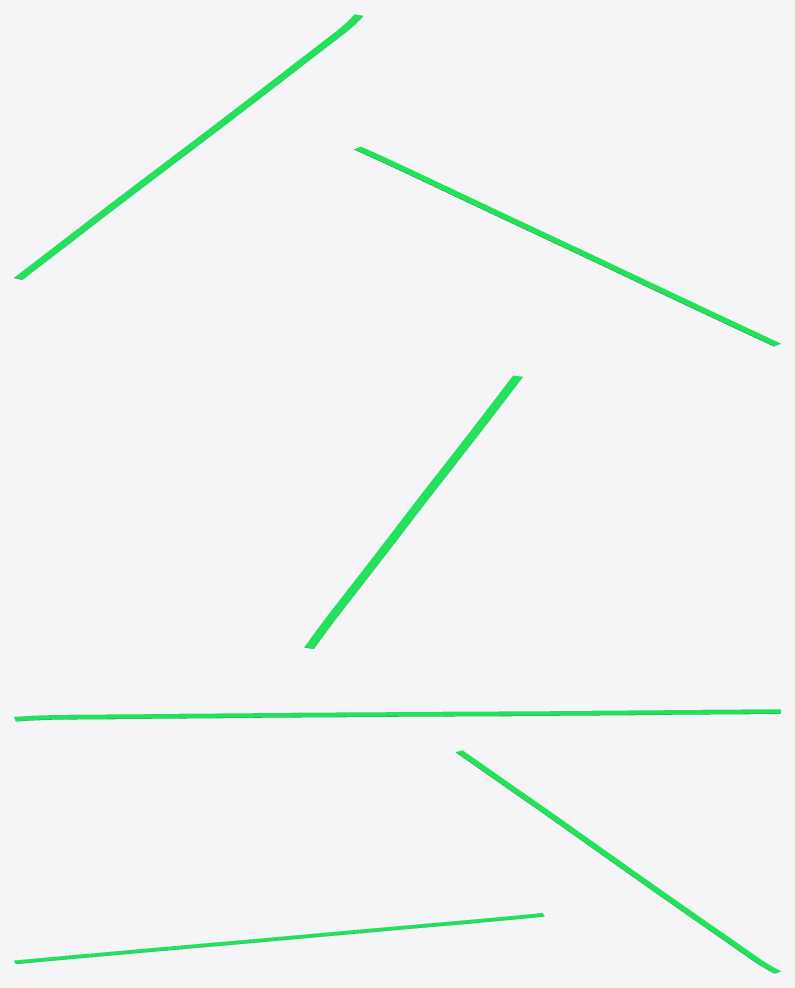
The model's file is ShanghaiDrs.glb.
3 views of the same model, one above another, from view 1: azimuth 30°, elevation 25°; view 2: azimuth 150°, elevation 25°; view 3: azimuth 270°, elevation 25° (orthographic). The views are drawn at different scales.
Visible parts, largest first — view 1: DrsStrip_1, DrsStrip_2; view 2: DrsStrip_1, DrsStrip_2; view 3: DrsStrip_1, DrsStrip_2.
Boxes of the visible parts, x1=… form: DrsStrip_1: x1=14, y1=14, x2=362, y2=279; DrsStrip_2: x1=354, y1=146, x2=780, y2=346; DrsStrip_1: x1=14, y1=709, x2=780, y2=721; DrsStrip_2: x1=304, y1=375, x2=522, y2=648; DrsStrip_1: x1=455, y1=750, x2=780, y2=973; DrsStrip_2: x1=14, y1=913, x2=544, y2=963.
Size of the model in its own units: 9 by 0.006 by 13.07.
